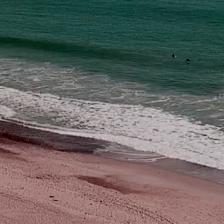surfer: (186, 58, 190, 61), (172, 54, 175, 57)
